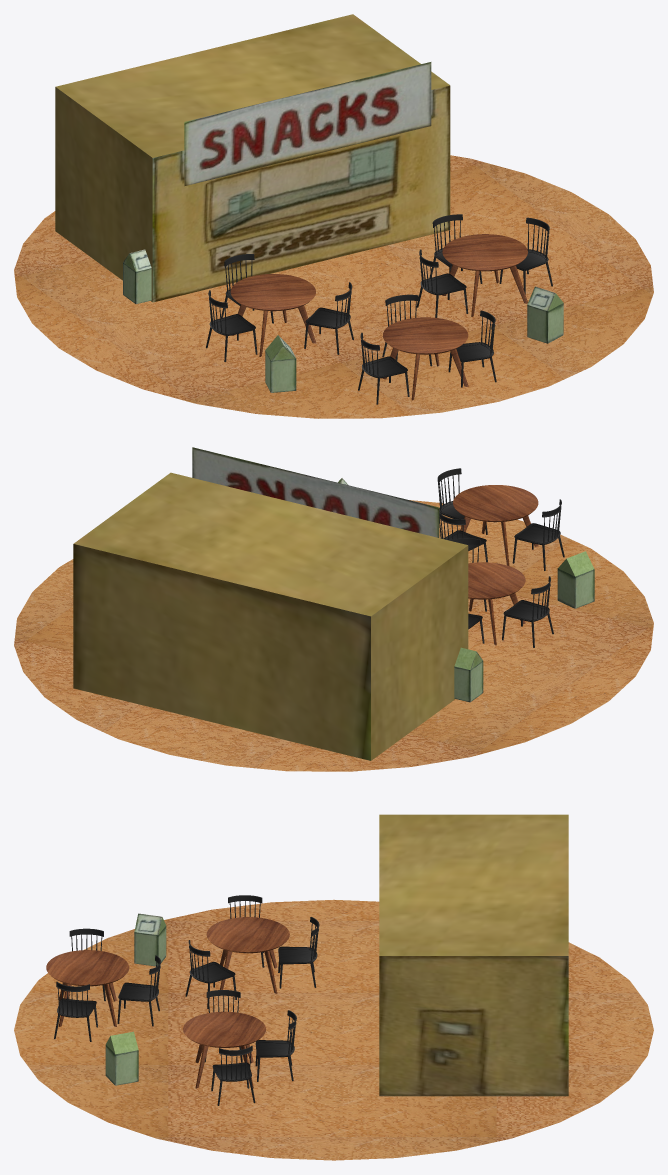
Rendered from SnackArea.fbx.
3 renders of one model, top to bottom at view 1: azimuth 30°, elevation 25°; view 2: azimuth 150°, elevation 25°; view 3: azimuth 270°, elevation 25°, orthographic. The views are drawn at different scales.
Parts seen in each view (by area): view 1: Cylinder, Cube, Cube_002, table_CÃ_rculo_001, table_CÃ_rculo_002, table_CÃ_rculo_003, Cube_001, Cube_004, Cube_003, seat_Plano_003, seat_Plano_002, seat_Plano_001 (+5 smaller); view 2: Cube, Cylinder, Cube_002, table_CÃ_rculo_002, table_CÃ_rculo_003, Cube_004, Cube_003, seat_Plano_001, seat_Plano_002, seat_Plano_007, seat_Plano_006; view 3: Cylinder, Cube, table_CÃ_rculo_003, table_CÃ_rculo_001, table_CÃ_rculo_002, Cube_001, Cube_004, seat_Plano_008, seat_Plano_007, seat_Plano_009, seat_Plano_005, seat_Plano_004 (+1 smaller).
Part boxes in pixels (left/top/right/bottom): Cylinder: left=14, top=155, right=653, bottom=418; Cube: left=55, top=14, right=450, bottom=302; Cube_002: left=184, top=62, right=431, bottom=186; table_CÃ_rculo_001: left=442, top=234, right=527, bottom=316; table_CÃ_rculo_002: left=382, top=317, right=468, bottom=400; table_CÃ_rculo_003: left=230, top=274, right=316, bottom=356; Cube_001: left=527, top=286, right=563, bottom=343; Cube_004: left=265, top=335, right=296, bottom=392; Cube_003: left=123, top=249, right=151, bottom=304; seat_Plano_003: left=416, top=249, right=468, bottom=317; seat_Plano_002: left=358, top=332, right=409, bottom=404; seat_Plano_001: left=206, top=290, right=257, bottom=361; Cube: left=73, top=472, right=468, bottom=760; Cylinder: left=14, top=500, right=653, bottom=771; Cube_002: left=192, top=447, right=439, bottom=537; table_CÃ_rculo_002: left=453, top=485, right=538, bottom=565; table_CÃ_rculo_003: left=468, top=562, right=525, bottom=645; Cube_004: left=557, top=551, right=594, bottom=608; Cube_003: left=454, top=647, right=483, bottom=702; seat_Plano_001: left=502, top=576, right=553, bottom=647; seat_Plano_002: left=512, top=499, right=564, bottom=570; seat_Plano_007: left=437, top=468, right=487, bottom=534; seat_Plano_006: left=439, top=511, right=487, bottom=562; Cylinder: left=14, top=899, right=653, bottom=1160; Cube: left=379, top=814, right=568, bottom=1096; table_CÃ_rculo_003: left=206, top=917, right=289, bottom=993; table_CÃ_rculo_001: left=183, top=1011, right=266, bottom=1088; table_CÃ_rculo_002: left=46, top=950, right=129, bottom=1026; Cube_001: left=105, top=1031, right=138, bottom=1085; Cube_004: left=134, top=913, right=166, bottom=966; seat_Plano_008: left=211, top=1045, right=255, bottom=1105; seat_Plano_007: left=54, top=981, right=97, bottom=1041; seat_Plano_009: left=185, top=940, right=236, bottom=1008; seat_Plano_005: left=278, top=917, right=319, bottom=988; seat_Plano_004: left=255, top=1010, right=296, bottom=1081.
Bounding box in the file's own units: 13.41 × 4.13 × 13.91.
